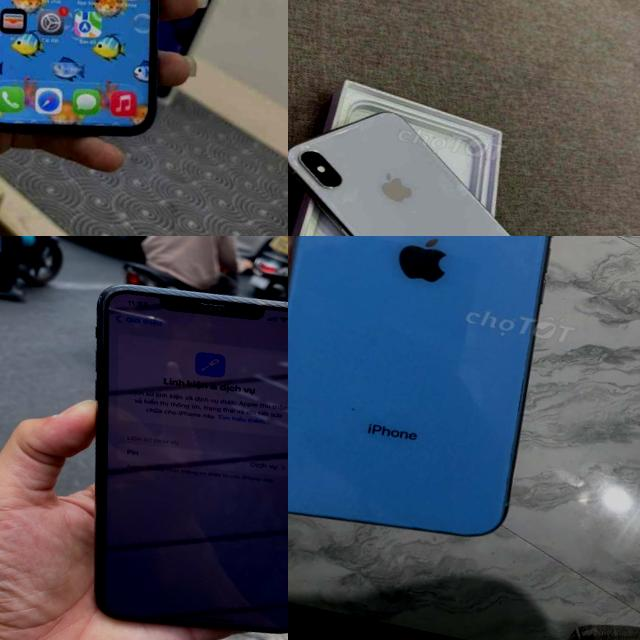gen_11: (32, 261, 288, 640)
gen_12_13: (0, 0, 223, 164)
gen_x_xs: (288, 236, 593, 561), (288, 79, 623, 236)
